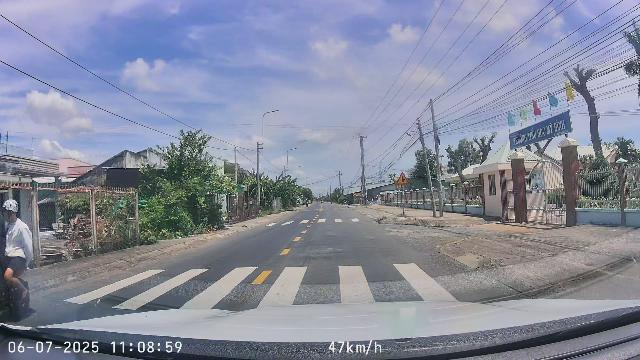207-giao-nhau-voi-duong-khong-uu-tien: (396, 172, 409, 185)
